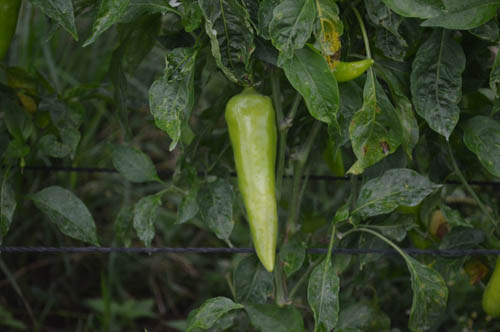ChiliPepper: (221, 88, 282, 275), (334, 55, 378, 90)
